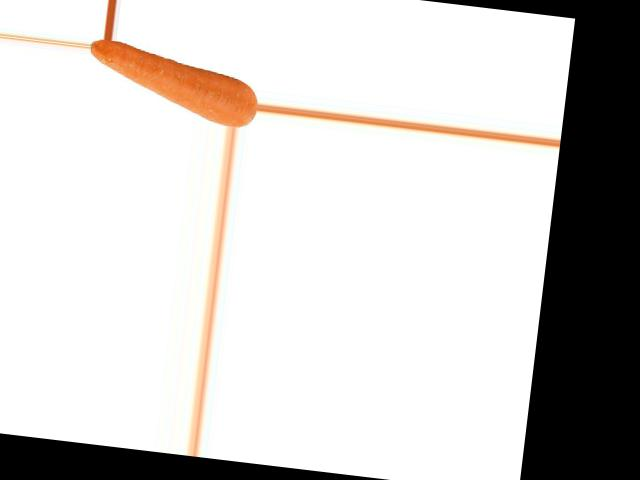carrot: (85, 38, 263, 128)
